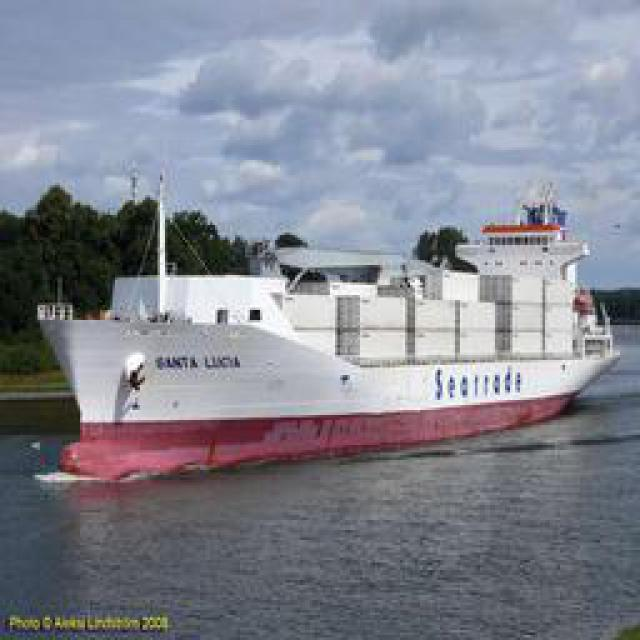Ship: (37, 194, 617, 479)
